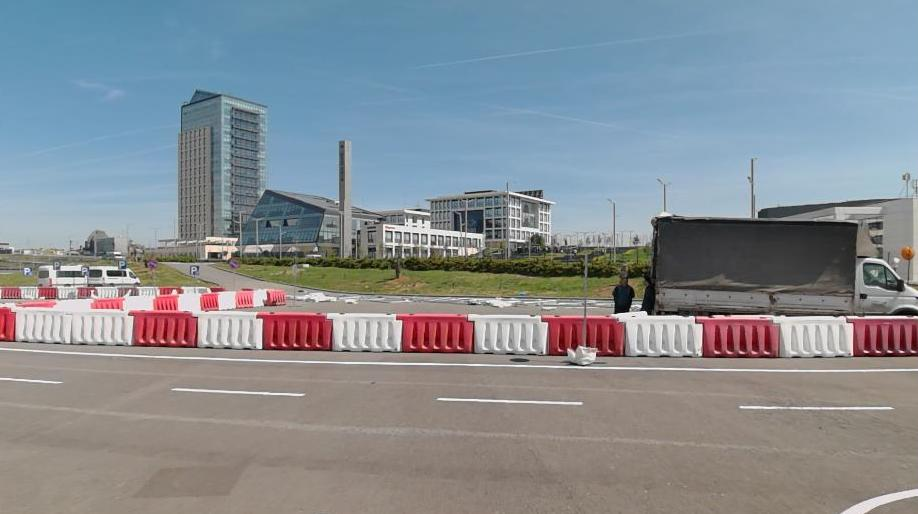nesne: (0, 344, 917, 514), (0, 303, 918, 358), (650, 213, 917, 316), (0, 346, 914, 371), (16, 287, 290, 311), (13, 307, 131, 345), (611, 313, 704, 358), (540, 313, 628, 356), (695, 314, 781, 358), (0, 283, 215, 300), (770, 316, 855, 358), (468, 313, 547, 355), (395, 313, 474, 352), (326, 311, 403, 351), (256, 311, 333, 350), (846, 315, 918, 356), (193, 311, 265, 350), (129, 309, 198, 347), (838, 487, 916, 513), (437, 397, 585, 407), (37, 263, 89, 287), (173, 387, 306, 396), (87, 266, 141, 287), (610, 273, 636, 316), (739, 404, 893, 410), (1, 377, 62, 387), (0, 307, 15, 343), (121, 295, 154, 311), (217, 288, 237, 310), (266, 287, 289, 306), (177, 292, 200, 311), (154, 295, 180, 311), (236, 288, 253, 312), (91, 297, 121, 310), (54, 299, 92, 309), (200, 292, 218, 310), (180, 285, 213, 294), (58, 285, 79, 298), (1, 287, 22, 299), (21, 285, 40, 298), (160, 285, 184, 295), (252, 289, 265, 307), (119, 287, 140, 298), (139, 285, 160, 296), (99, 287, 119, 298), (78, 286, 99, 296), (39, 288, 57, 299)
